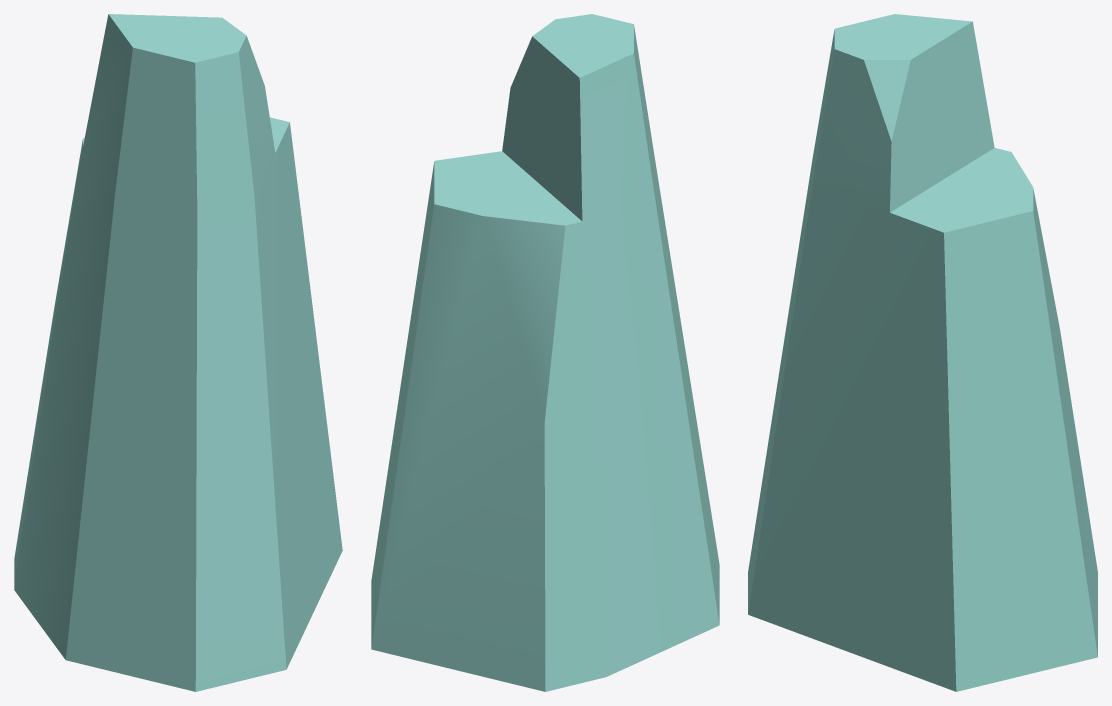
The model's file is rock_tall9.fbx.
The picture shows the model from 3 angles, left to right: view 1: azimuth 30°, elevation 25°; view 2: azimuth 150°, elevation 25°; view 3: azimuth 270°, elevation 25°; orthographic projection. The views are drawn at different scales.
Parts seen in each view (by area): view 1: rock_tall9; view 2: rock_tall9; view 3: rock_tall9.
Part boxes in pixels (x1=…): rock_tall9: x1=14, y1=14, x2=342, y2=691; rock_tall9: x1=371, y1=14, x2=719, y2=691; rock_tall9: x1=748, y1=14, x2=1097, y2=691.
Bounding box in the file's own units: 139 × 244 × 137.
